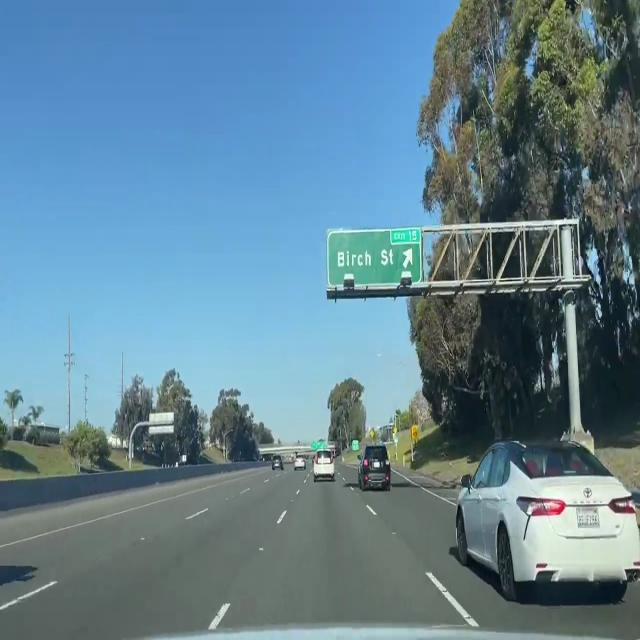street-signs: (327, 228, 422, 286), (311, 441, 320, 449), (352, 441, 359, 451), (321, 440, 328, 450)
